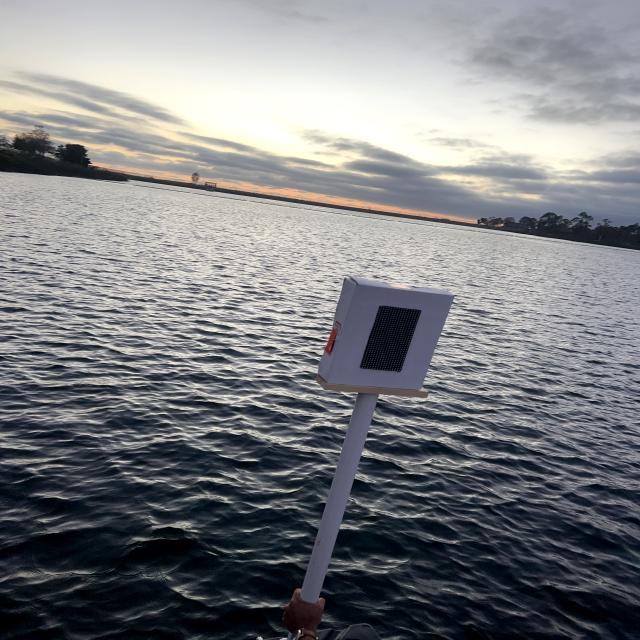led: (346, 295, 428, 392)
